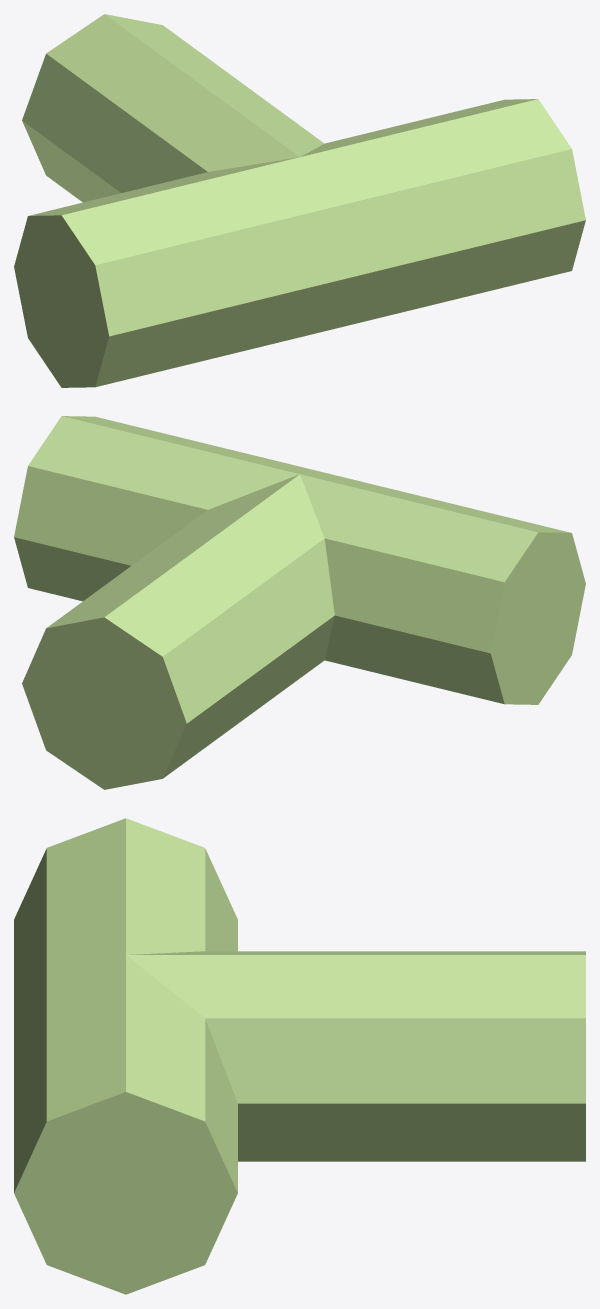
The model's file is trumpet1-1.fbx.
The picture shows the model from 3 angles, top to bottom: view 1: azimuth 30°, elevation 25°; view 2: azimuth 150°, elevation 25°; view 3: azimuth 270°, elevation 25°; orthographic projection. The views are drawn at different scales.
Visible parts, largest first — view 1: Cylinder_17; view 2: Cylinder_17; view 3: Cylinder_17.
Part boxes in pixels (x1,y1,x2,y2): Cylinder_17: (14,14,585,387); Cylinder_17: (14,416,585,789); Cylinder_17: (14,818,585,1294).
Bounding box in the file's own units: 87.6 × 30.3 × 77.39.
